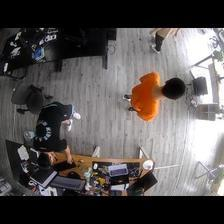normal: (31, 100, 83, 165), (123, 70, 183, 123), (147, 28, 184, 56)
